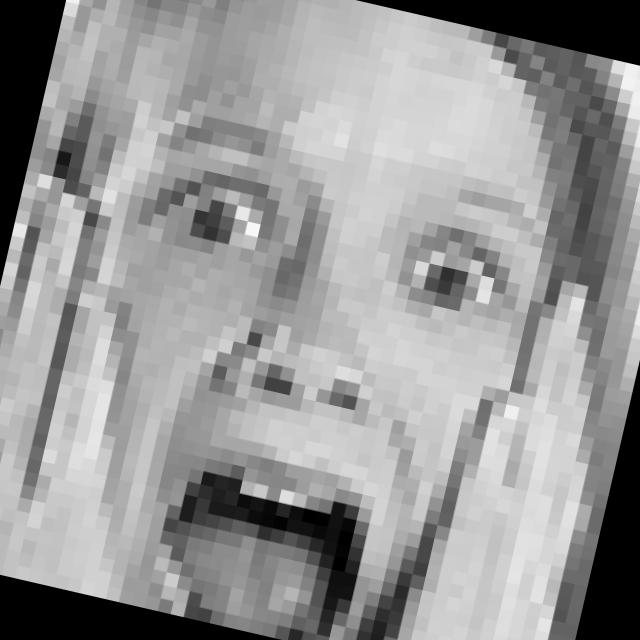fear: (23, 89, 552, 640)
